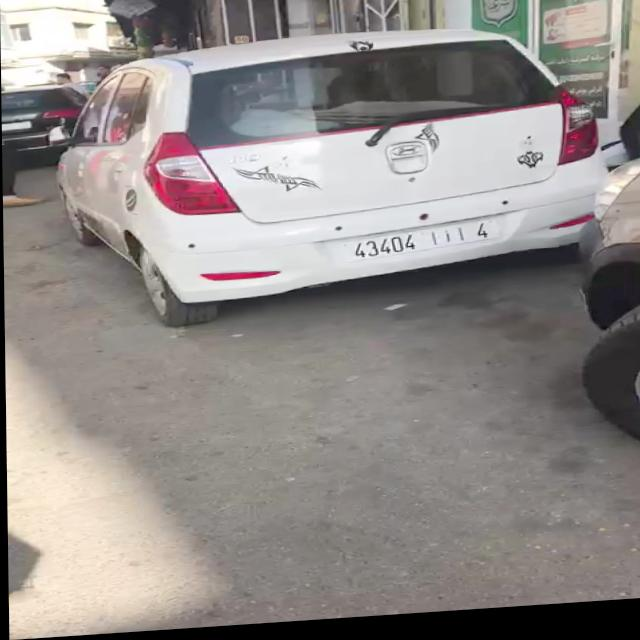License-Plate: (339, 226, 500, 265)
